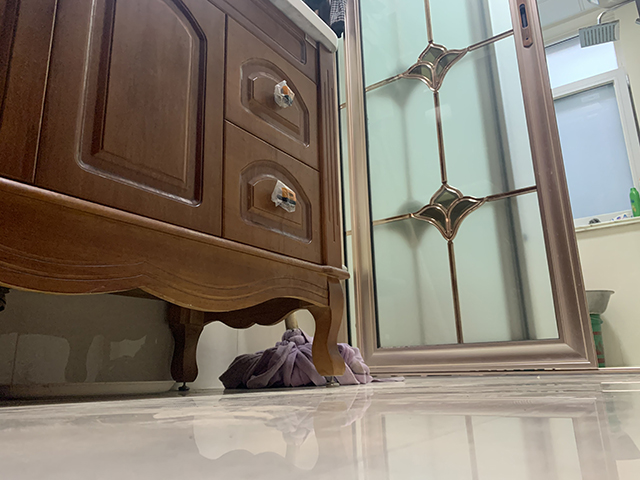cabinet: (1, 1, 352, 391)
